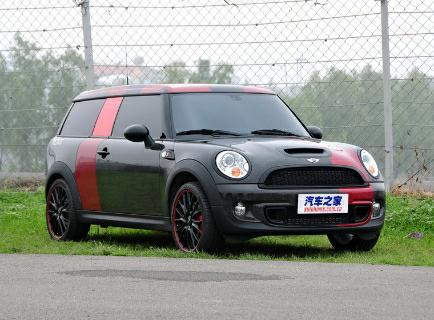MINI CLUBMAN: (35, 83, 398, 261)
